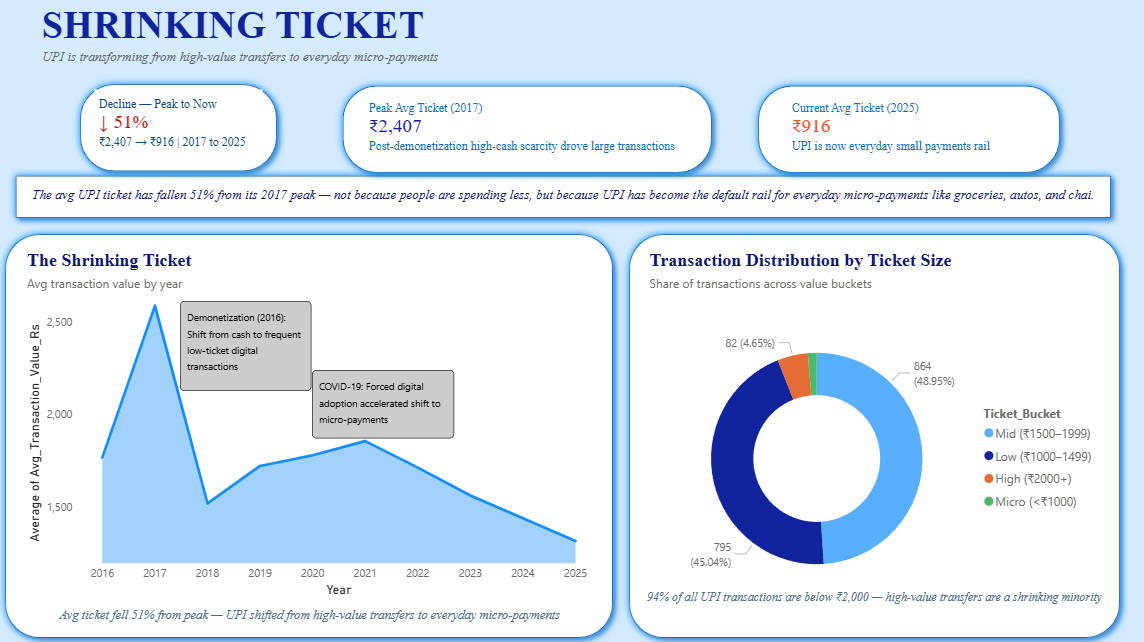

The dashboard page shown, as its layout file describes it:
{"tool":"powerbi","page":{"name":"Shrinking Ticket","canvas":[1280,720],"ordinal":3},"visuals":[{"type":"shape","box":[11.7,188.3,1235,65],"z":0},{"type":"shape","box":[836.7,88.3,353.3,115],"z":1000},{"type":"shape","box":[375,88.3,428.3,115],"z":2000},{"type":"shape","box":[83.3,86.7,236.7,115],"z":3000},{"type":"shape","box":[693.3,253.3,563.3,466.7],"z":4000},{"type":"shape","box":[0,253.3,693.3,466.7],"z":5000},{"type":"areaChart","title":"The Shrinking Ticket","fields":{"Category":["UPI_Monthly.Month.Variation.Date Hierarchy.Year"],"Y":["Avg(UPI_Monthly.Avg_Transaction_Value_Rs)"]},"box":[27.5,280,642.5,390],"z":6000},{"type":"donutChart","title":"Transaction Distribution by Ticket Size","fields":{"Category":["Daily_Statistics.Ticket_Bucket"],"Y":["CountNonNull(Daily_Statistics.Date)"]},"box":[720,280,510,418.3],"z":7000},{"type":"textbox","box":[45,0,500,61.7],"z":8000},{"type":"textbox","box":[44.3,50,732.9,37.1],"z":9000},{"type":"textbox","box":[108.3,101.7,186.7,81.7],"z":10000},{"type":"textbox","box":[408.3,106.7,363.3,80],"z":11000},{"type":"textbox","box":[878.3,106.7,270,81.7],"z":12000},{"type":"textbox","box":[28.3,203.3,1201.7,31.7],"z":13000},{"type":"textbox","box":[38.3,670,618.3,28.3],"z":14000},{"type":"textbox","box":[711.7,650,526.7,40],"z":15000},{"type":"textbox","box":[350,414,158,76],"z":15501},{"type":"textbox","box":[204,336,146,100],"z":16002}]}

Visuals, with their boxes in screenshot pixels (x1, y1, x2, y2), scaled from the page's 1280x720 canvas onto the 1144x642 screenshot:
shape: <region>10, 168, 1114, 226</region>
shape: <region>748, 79, 1064, 181</region>
shape: <region>335, 79, 718, 181</region>
shape: <region>74, 77, 286, 180</region>
shape: <region>620, 226, 1123, 641</region>
shape: <region>0, 226, 620, 641</region>
"The Shrinking Ticket" areaChart: <region>25, 250, 599, 597</region>
"Transaction Distribution by Ticket Size" donutChart: <region>644, 250, 1099, 623</region>
textbox: <region>40, 0, 487, 55</region>
textbox: <region>40, 45, 695, 78</region>
textbox: <region>97, 91, 264, 164</region>
textbox: <region>365, 95, 690, 166</region>
textbox: <region>785, 95, 1026, 168</region>
textbox: <region>25, 181, 1099, 210</region>
textbox: <region>34, 597, 587, 623</region>
textbox: <region>636, 580, 1107, 615</region>
textbox: <region>313, 369, 454, 437</region>
textbox: <region>182, 300, 313, 389</region>
